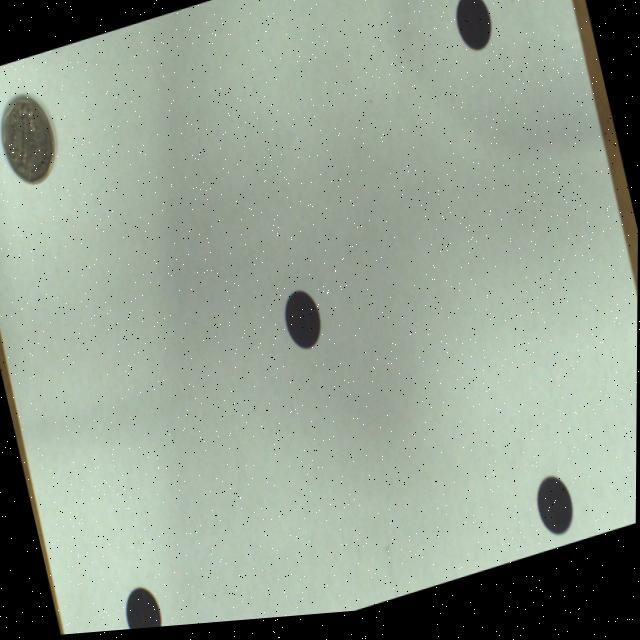space: (537, 484, 574, 545), (285, 295, 321, 355), (456, 0, 492, 58), (127, 589, 162, 631)
tail5bath: (1, 96, 54, 184)
